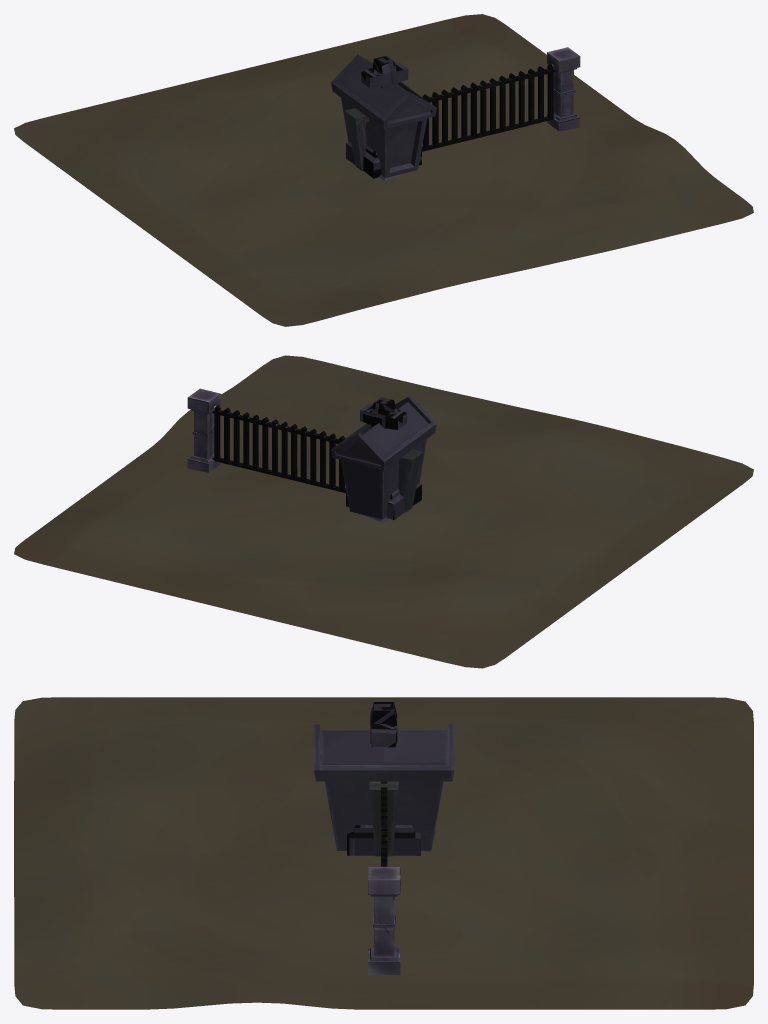
Rendered from FinalAssets.fbx.
The picture shows the model from 3 angles, top to bottom: view 1: azimuth 30°, elevation 25°; view 2: azimuth 150°, elevation 25°; view 3: azimuth 270°, elevation 25°; orthographic projection. The views are drawn at different scales.
Visible parts, largest first — view 1: Ground, Fence, Mausoleum, CrossGrave, Grave; view 2: Ground, Fence, Mausoleum, CrossGrave, Grave; view 3: Ground, Mausoleum, Fence, CrossGrave, Grave.
Boxes of the visible parts, box(x1,y1,x2,y2) form: Ground: box(14, 14, 753, 326); Fence: box(421, 47, 580, 151); Mausoleum: box(331, 54, 436, 181); CrossGrave: box(346, 55, 421, 178); Grave: box(344, 108, 368, 170); Ground: box(14, 355, 753, 668); Fence: box(187, 388, 346, 492); Mausoleum: box(331, 395, 436, 523); CrossGrave: box(346, 397, 421, 519); Grave: box(398, 449, 423, 512); Ground: box(14, 697, 753, 1009); Mausoleum: box(314, 724, 454, 851); Fence: box(368, 781, 400, 975); CrossGrave: box(347, 702, 420, 855); Grave: box(369, 781, 398, 856).
Size of the model in its own units: 2010 by 460 by 2001.
6 materials, 5 textured.
